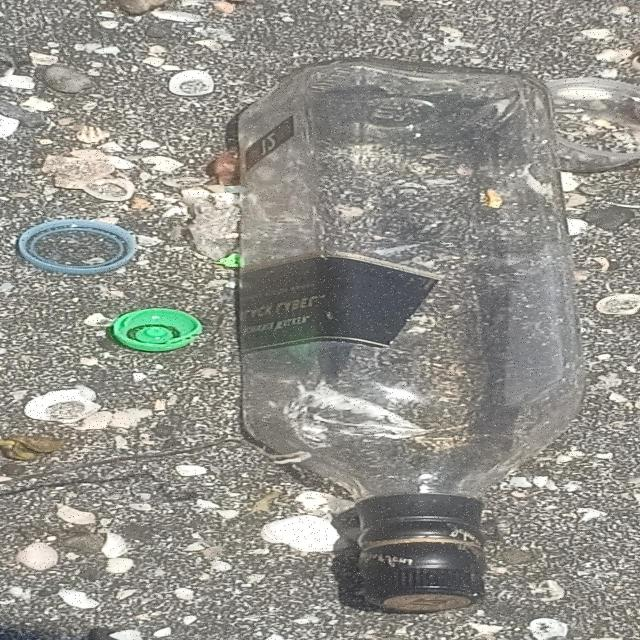glass_waste: (230, 56, 597, 616)
plastic_waste: (16, 220, 142, 277), (111, 309, 205, 353)
